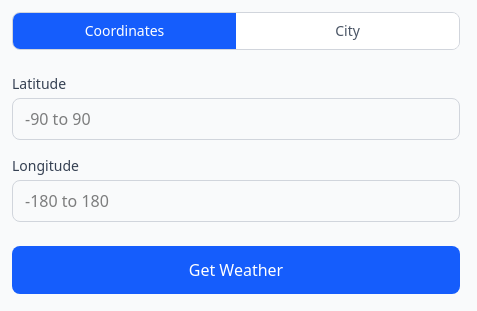
WeatherForm › switches to city mode
Click the button "City" at (348, 31), box [236,13,459,49]
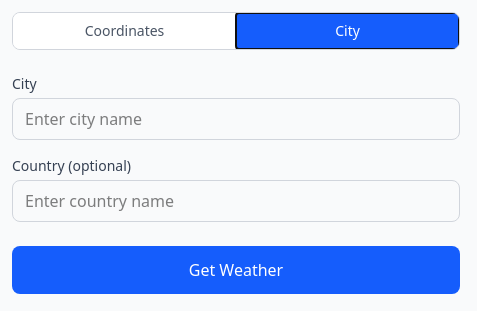
Check: the field labelled "City" is shown, box [12,98,460,140]
